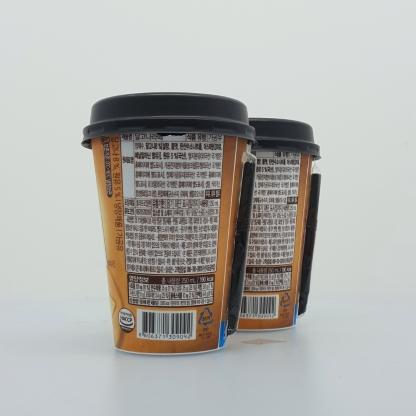---------250ML: (81, 92, 258, 355), (195, 118, 321, 332)
